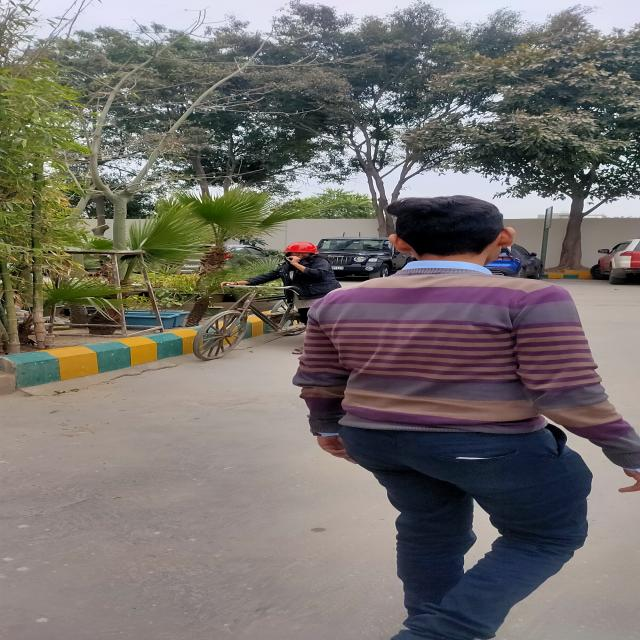no jacket: (225, 243, 342, 304)
unsafe: (294, 196, 640, 640)
